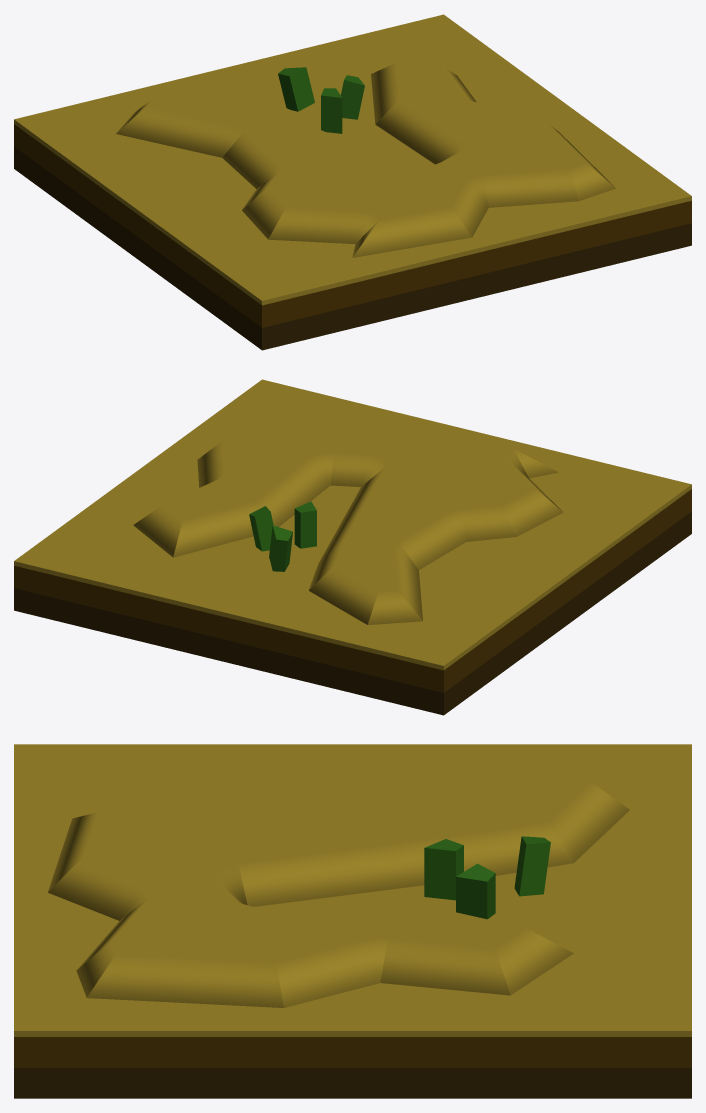
The model's file is splineDesert1.glb.
3 renders of one model, top to bottom at view 1: azimuth 30°, elevation 25°; view 2: azimuth 150°, elevation 25°; view 3: azimuth 270°, elevation 25°, orthographic. The views are drawn at different scales.
Parts seen in each view (by area): view 1: TopLayer, desertMontain, MiddleLayer, BottomLayer, Cactus 3, Cactus, Cactus 2; view 2: TopLayer, desertMontain, MiddleLayer, BottomLayer, Cactus, Cactus 3, Cactus 2; view 3: TopLayer, desertMontain, MiddleLayer, BottomLayer, Cactus, Cactus 2, Cactus 3.
Boxes of the visible parts, left/top/right/bottom form: TopLayer: left=14, top=14, right=691, bottom=305; desertMontain: left=116, top=62, right=615, bottom=257; MiddleLayer: left=14, top=124, right=691, bottom=327; BottomLayer: left=14, top=146, right=691, bottom=350; Cactus 3: left=278, top=67, right=314, bottom=111; Cactus: left=321, top=88, right=342, bottom=133; Cactus 2: left=340, top=75, right=364, bottom=119; TopLayer: left=14, top=379, right=691, bottom=670; desertMontain: left=133, top=401, right=563, bottom=624; MiddleLayer: left=14, top=489, right=691, bottom=692; BottomLayer: left=14, top=511, right=691, bottom=715; Cactus: left=294, top=501, right=316, bottom=548; Cactus 3: left=269, top=525, right=292, bottom=571; Cactus 2: left=249, top=506, right=273, bottom=551; TopLayer: left=14, top=744, right=691, bottom=1036; desertMontain: left=48, top=773, right=629, bottom=1007; MiddleLayer: left=14, top=1037, right=691, bottom=1067; BottomLayer: left=14, top=1068, right=691, bottom=1098; Cactus: left=424, top=839, right=463, bottom=900; Cactus 2: left=456, top=863, right=495, bottom=919; Cactus 3: left=514, top=836, right=550, bottom=896.
Size of the model in its own units: 1 by 0.1987 by 1.
